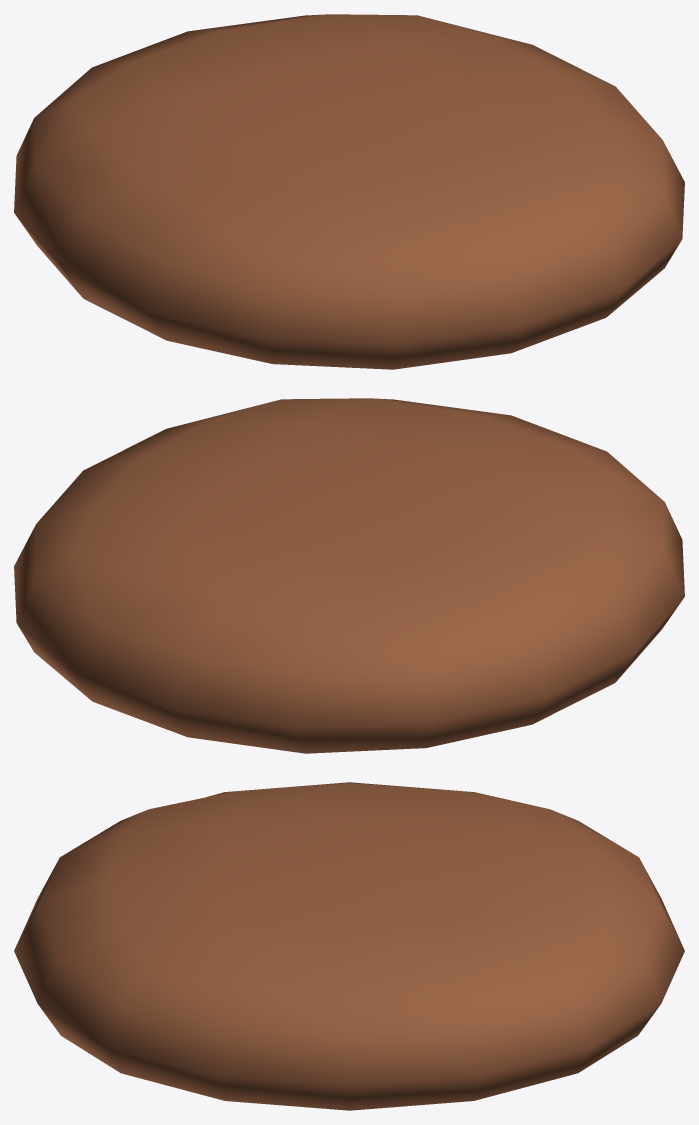
The model's file is candy_assets17.fbx.
3 views of the same model, one above another, from view 1: azimuth 30°, elevation 25°; view 2: azimuth 150°, elevation 25°; view 3: azimuth 270°, elevation 25° (orthographic). The views are drawn at different scales.
Parts seen in each view (by area): view 1: candy_assets17; view 2: candy_assets17; view 3: candy_assets17.
Boxes of the visible parts, x1=… form: candy_assets17: x1=14, y1=14, x2=684, y2=369; candy_assets17: x1=14, y1=398, x2=684, y2=753; candy_assets17: x1=14, y1=782, x2=684, y2=1110.
Bounding box in the file's own units: 468 × 104 × 493.
Materials: 1 (1 with a texture image).
